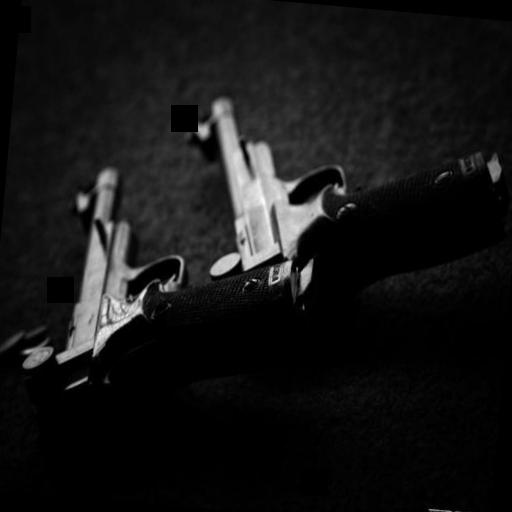Handgun: (176, 78, 511, 346), (14, 158, 316, 416)
